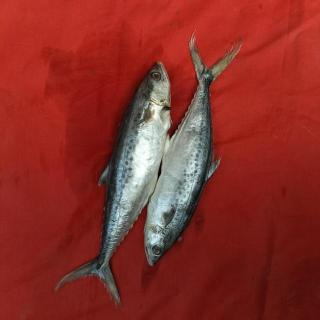Ikan: (44, 24, 256, 309)
